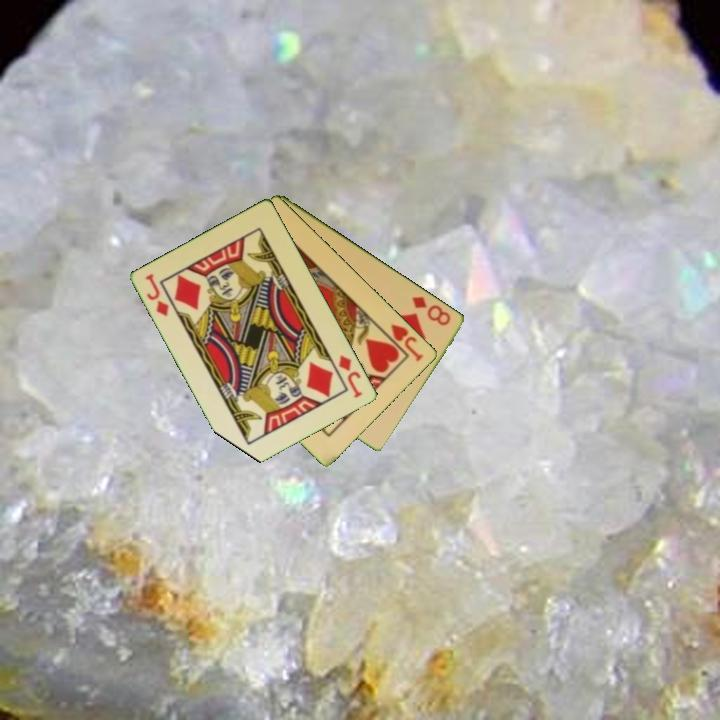8d: (409, 292, 454, 329)
Jd: (335, 352, 366, 401), (142, 270, 172, 320)
Jh: (378, 320, 426, 365)
